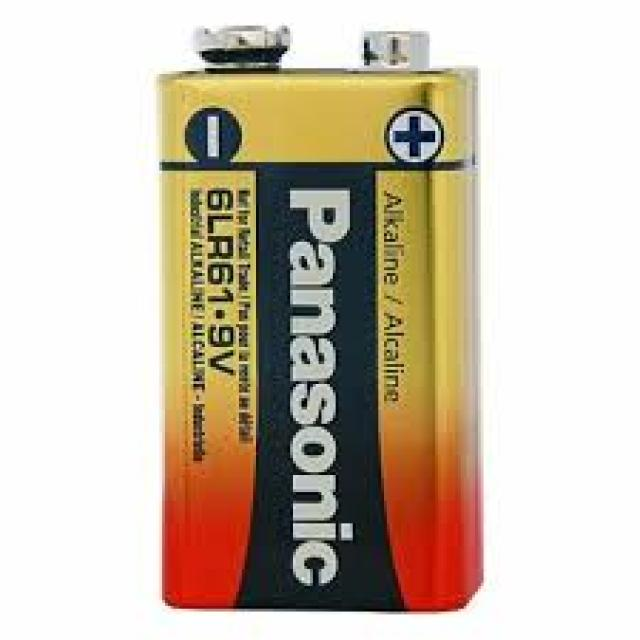Battery: (156, 28, 478, 606)
